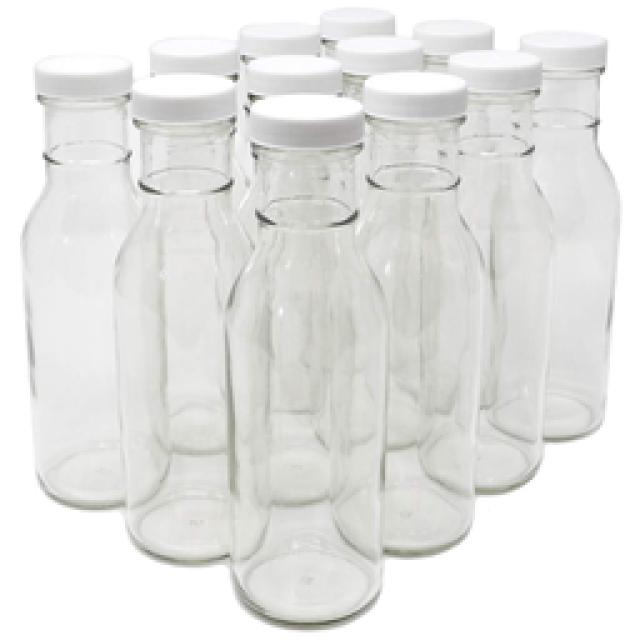glass_beverage_bottles: (234, 94, 384, 618)
